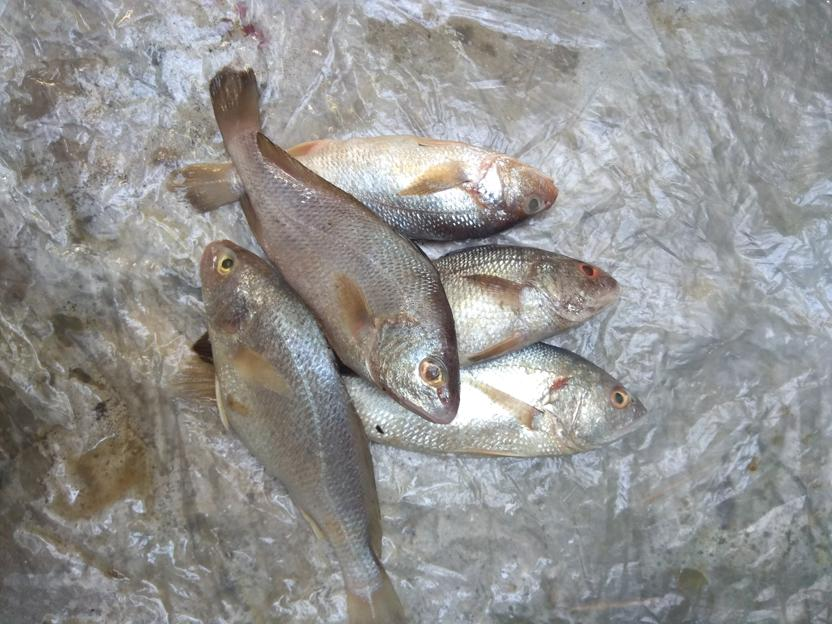Fish head: (369, 311, 459, 425), (554, 348, 645, 456), (532, 247, 620, 344), (475, 149, 557, 237), (199, 239, 271, 338)
Fish tail: (207, 63, 267, 145), (179, 160, 245, 215), (348, 574, 406, 623), (172, 357, 222, 406)
